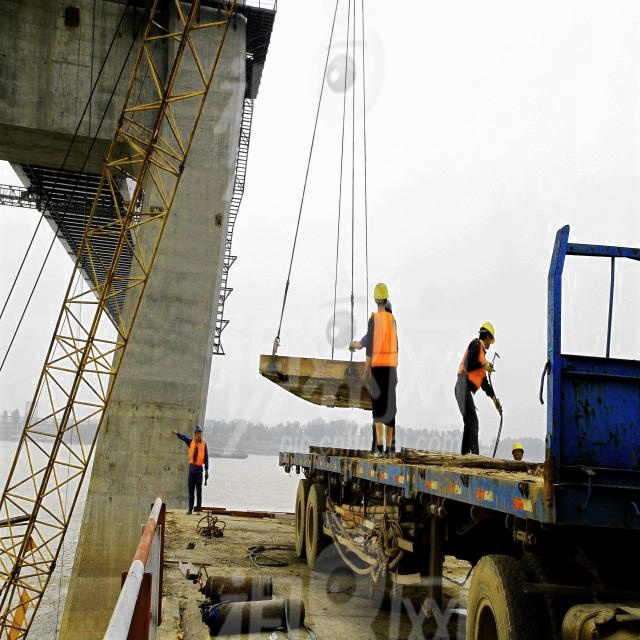Con_Casco: (479, 320, 497, 348), (374, 282, 390, 306)
Con_Chaleco: (371, 308, 401, 369)
